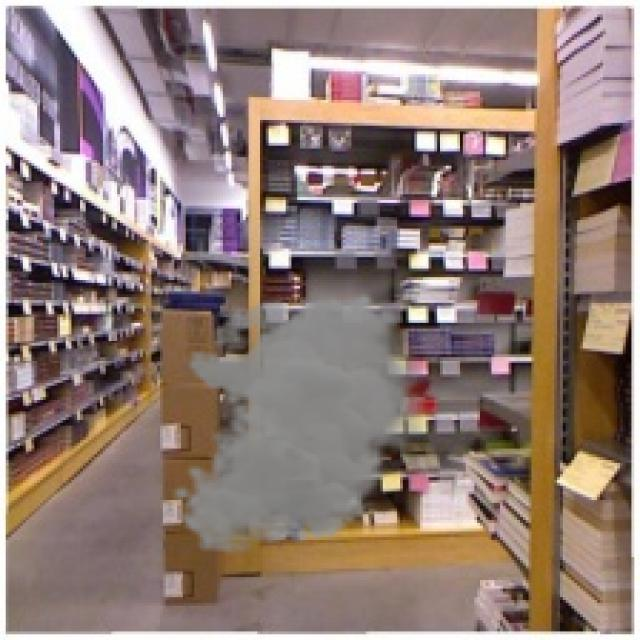smoke: (172, 292, 437, 554)
